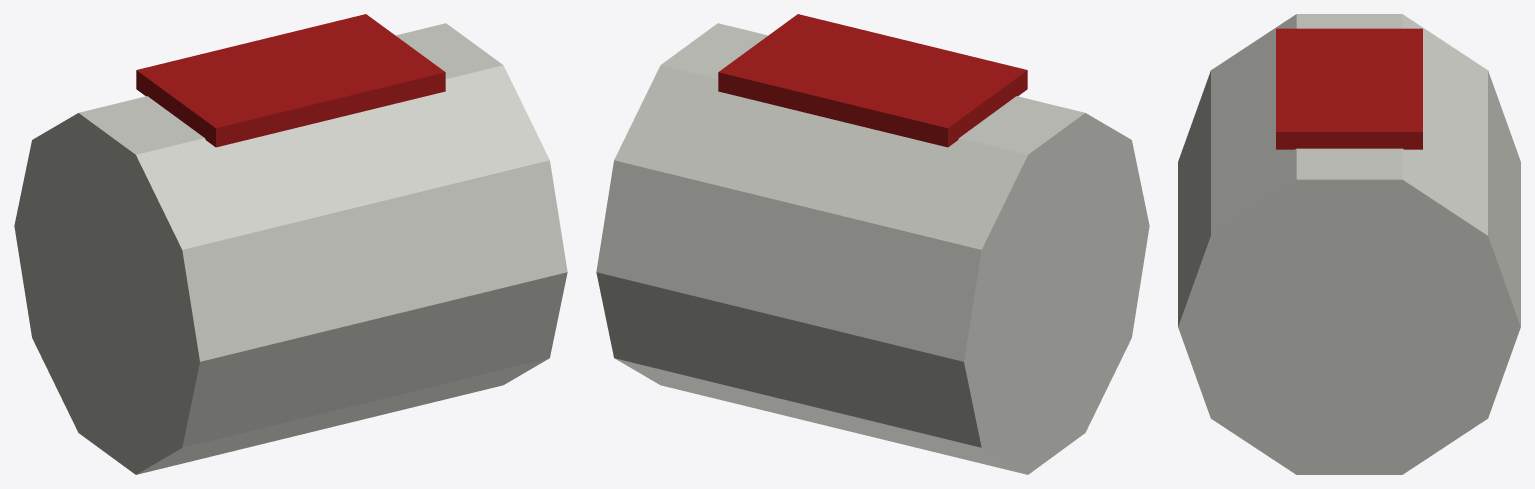
Rendered from bandage.glb.
The picture shows the model from 3 angles, left to right: view 1: azimuth 30°, elevation 25°; view 2: azimuth 150°, elevation 25°; view 3: azimuth 270°, elevation 25°; orthographic projection. The views are drawn at different scales.
Visible parts, largest first — view 1: bandage; view 2: bandage; view 3: bandage.
Boxes of the visible parts, box(x1,y1,x2,y2) form: bandage: box(14, 14, 567, 474); bandage: box(596, 14, 1149, 474); bandage: box(1178, 14, 1520, 474).
Bounding box in the file's own units: 0.08 × 0.0703 × 0.07.
